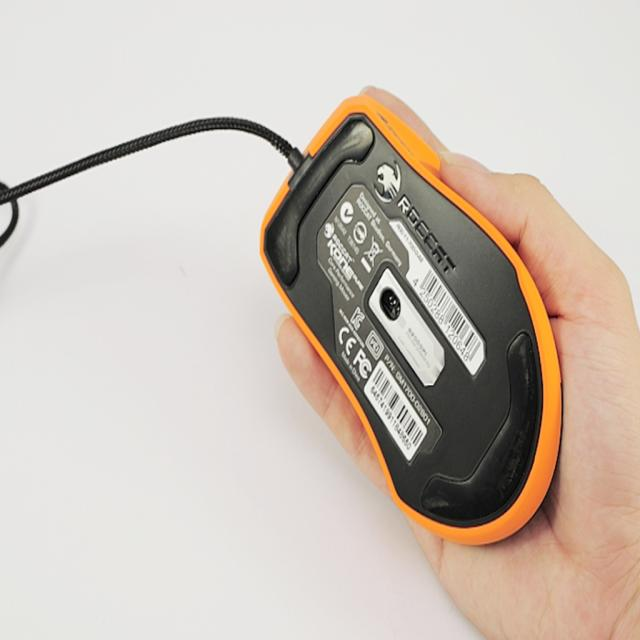Computer mouse: (258, 87, 560, 545)
